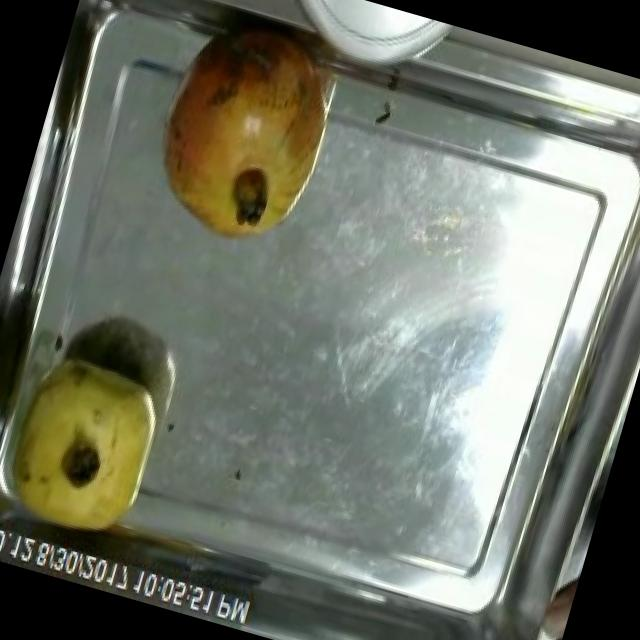fruit: (120, 0, 361, 274), (0, 335, 183, 555), (527, 552, 584, 640)
